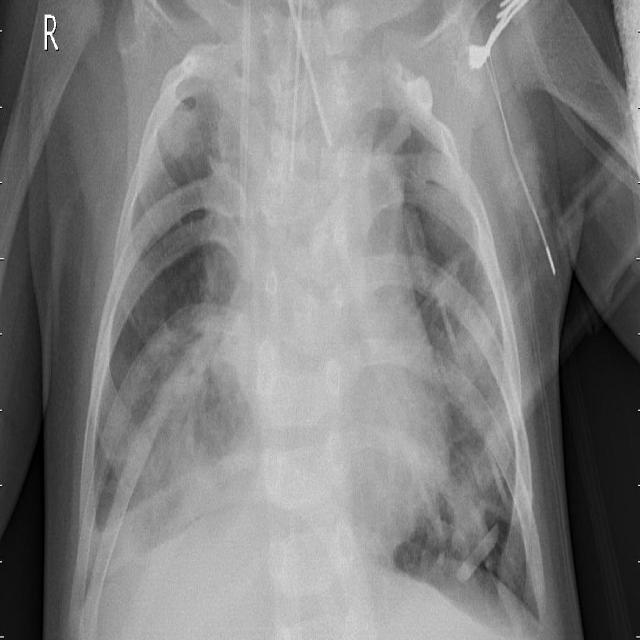low-pneumonia: (165, 295, 251, 490), (188, 40, 245, 292), (445, 314, 516, 479), (369, 138, 417, 317)
